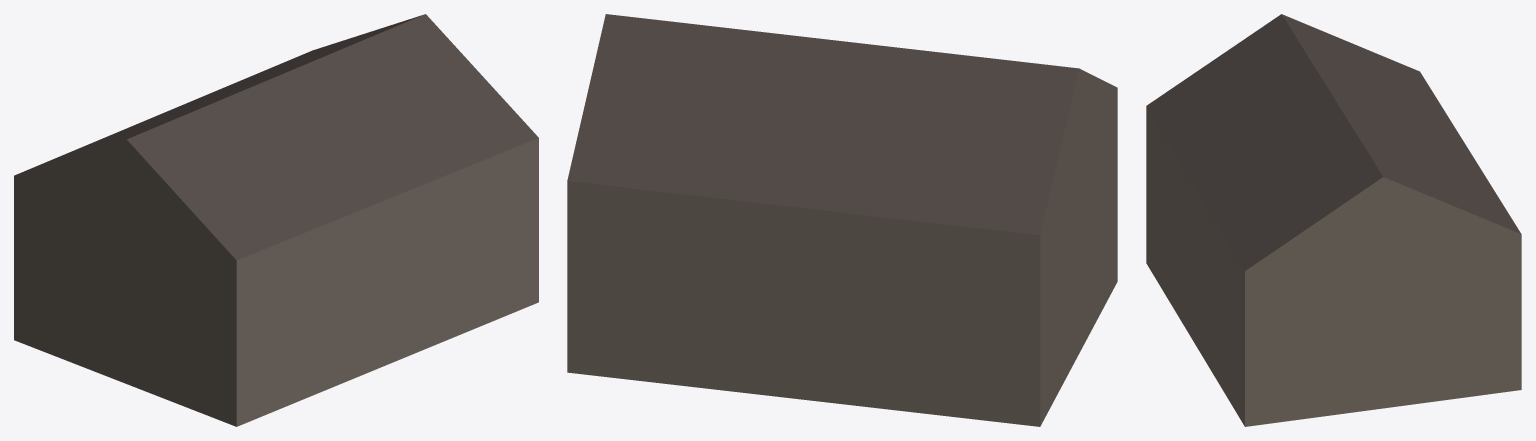
The picture shows the model from 3 angles, left to right: view 1: azimuth 30°, elevation 25°; view 2: azimuth 150°, elevation 25°; view 3: azimuth 270°, elevation 25°; orthographic projection. The views are drawn at different scales.
Visible parts, largest first — view 1: HP-w1196661468; view 2: HP-w1196661468; view 3: HP-w1196661468.
Boxes of the visible parts, <box> form: HP-w1196661468: <box>14,14,538,426</box>; HP-w1196661468: <box>567,14,1117,426</box>; HP-w1196661468: <box>1146,14,1521,426</box>.
Bounding box in the file's own units: 24.75 × 13.38 × 19.66.
